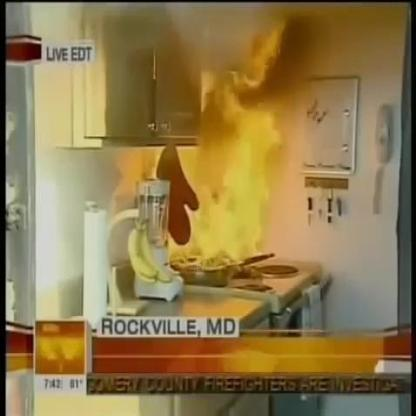fire: (162, 22, 298, 270)
